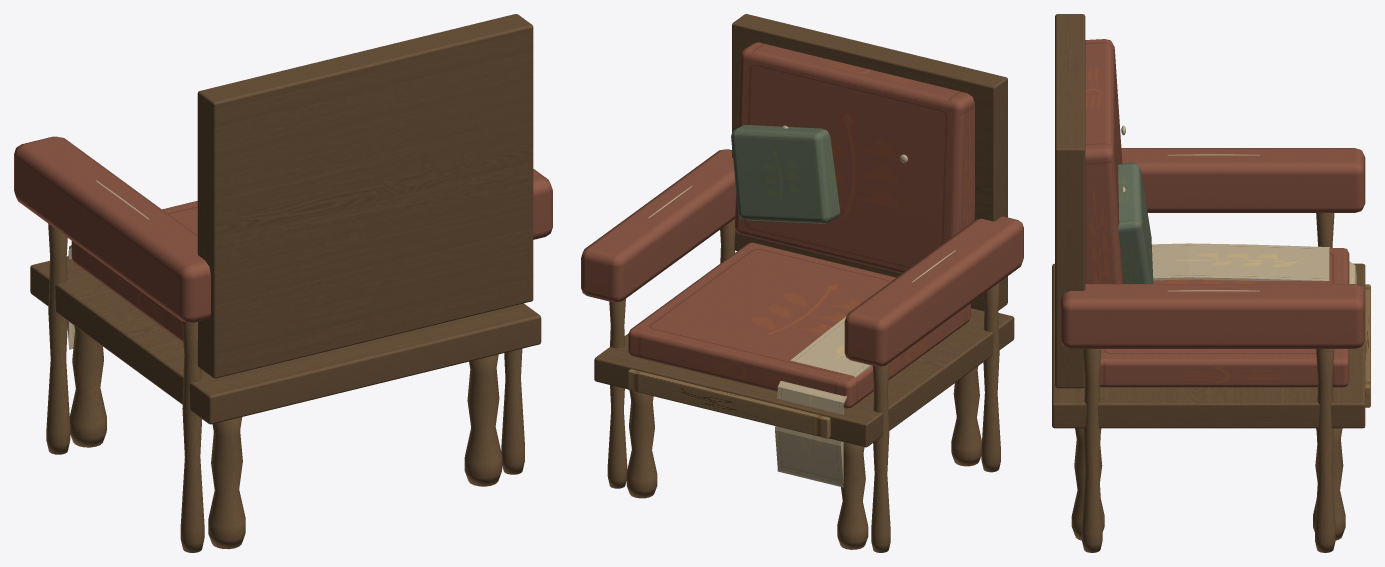
The model's file is butaca.glb.
3 views of the same model, side by side, from view 1: azimuth 30°, elevation 25°; view 2: azimuth 150°, elevation 25°; view 3: azimuth 270°, elevation 25° (orthographic). The views are drawn at different scales.
Visible parts, largest first — view 1: butaca; view 2: butaca; view 3: butaca.
Boxes of the visible parts, x1,y1,x2,y2 form: butaca: (14,14,552,552); butaca: (581,14,1023,552); butaca: (1052,14,1370,552).
Size of the model in its own units: 0.93 by 1.1 by 0.7935.
1 material, 1 textured.
